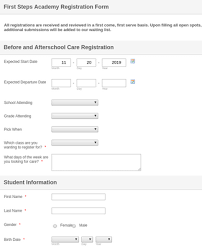DropDown: (50, 110, 100, 122), (51, 97, 102, 108), (50, 137, 102, 146), (50, 126, 102, 134), (51, 235, 80, 245), (95, 234, 116, 245), (81, 235, 94, 245)
RadioButton: (70, 223, 77, 232), (52, 223, 58, 229)
TextBox: (50, 152, 144, 173), (51, 191, 112, 203), (50, 207, 111, 216), (49, 56, 73, 71), (74, 55, 99, 69), (102, 57, 128, 68)
